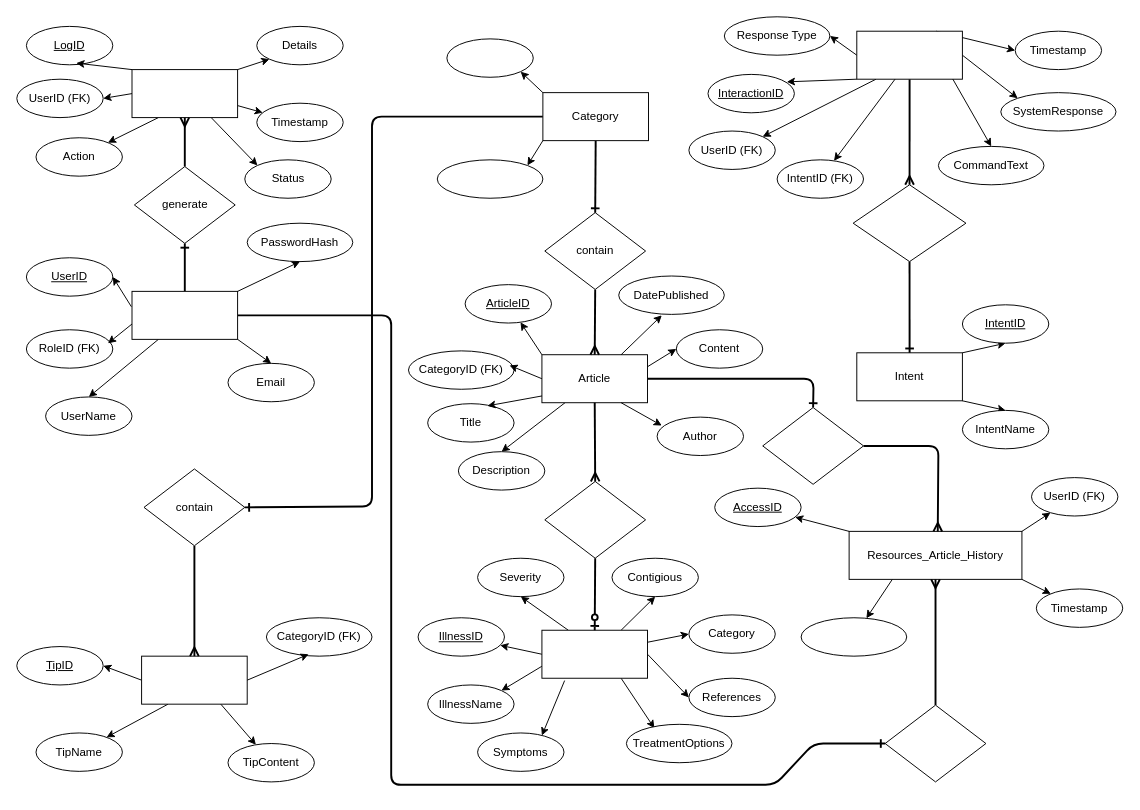
The diagram is 1140 pixels wide and 810 high, and some of its shapes have lost their labels. Here are the shapes that lost their labels. From the top down, the box of each, then its label:
(446, 38, 533, 77): CategoryID
(856, 30, 962, 79): Voice_Interaction
(131, 69, 238, 118): Audit_Log
(436, 159, 543, 198): CategoryName
(852, 184, 966, 262): map to
(131, 290, 238, 339): User
(762, 407, 864, 484): accessed
(544, 480, 646, 558): reference
(541, 629, 648, 678): Illness_Info
(800, 617, 907, 656): ArticleID (FK)
(141, 655, 247, 704): Health_Tips
(884, 704, 986, 782): have
